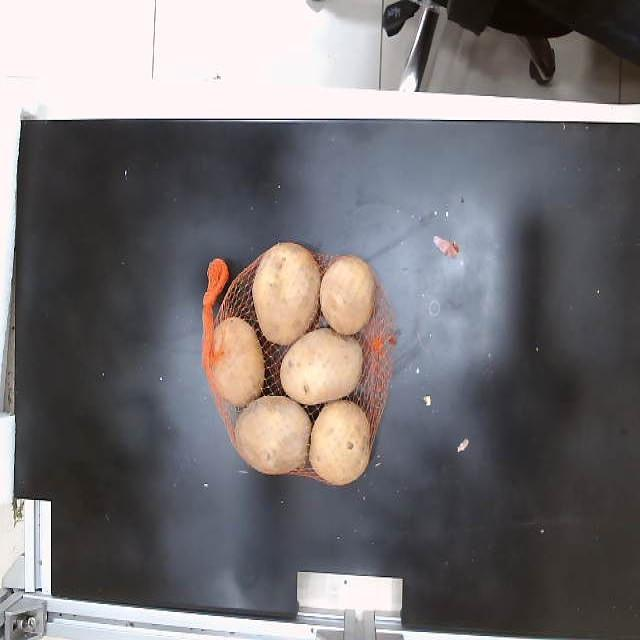potato: (252, 242, 321, 344), (280, 328, 362, 404), (236, 397, 311, 474), (309, 400, 371, 485), (212, 317, 265, 406), (320, 257, 375, 335)
